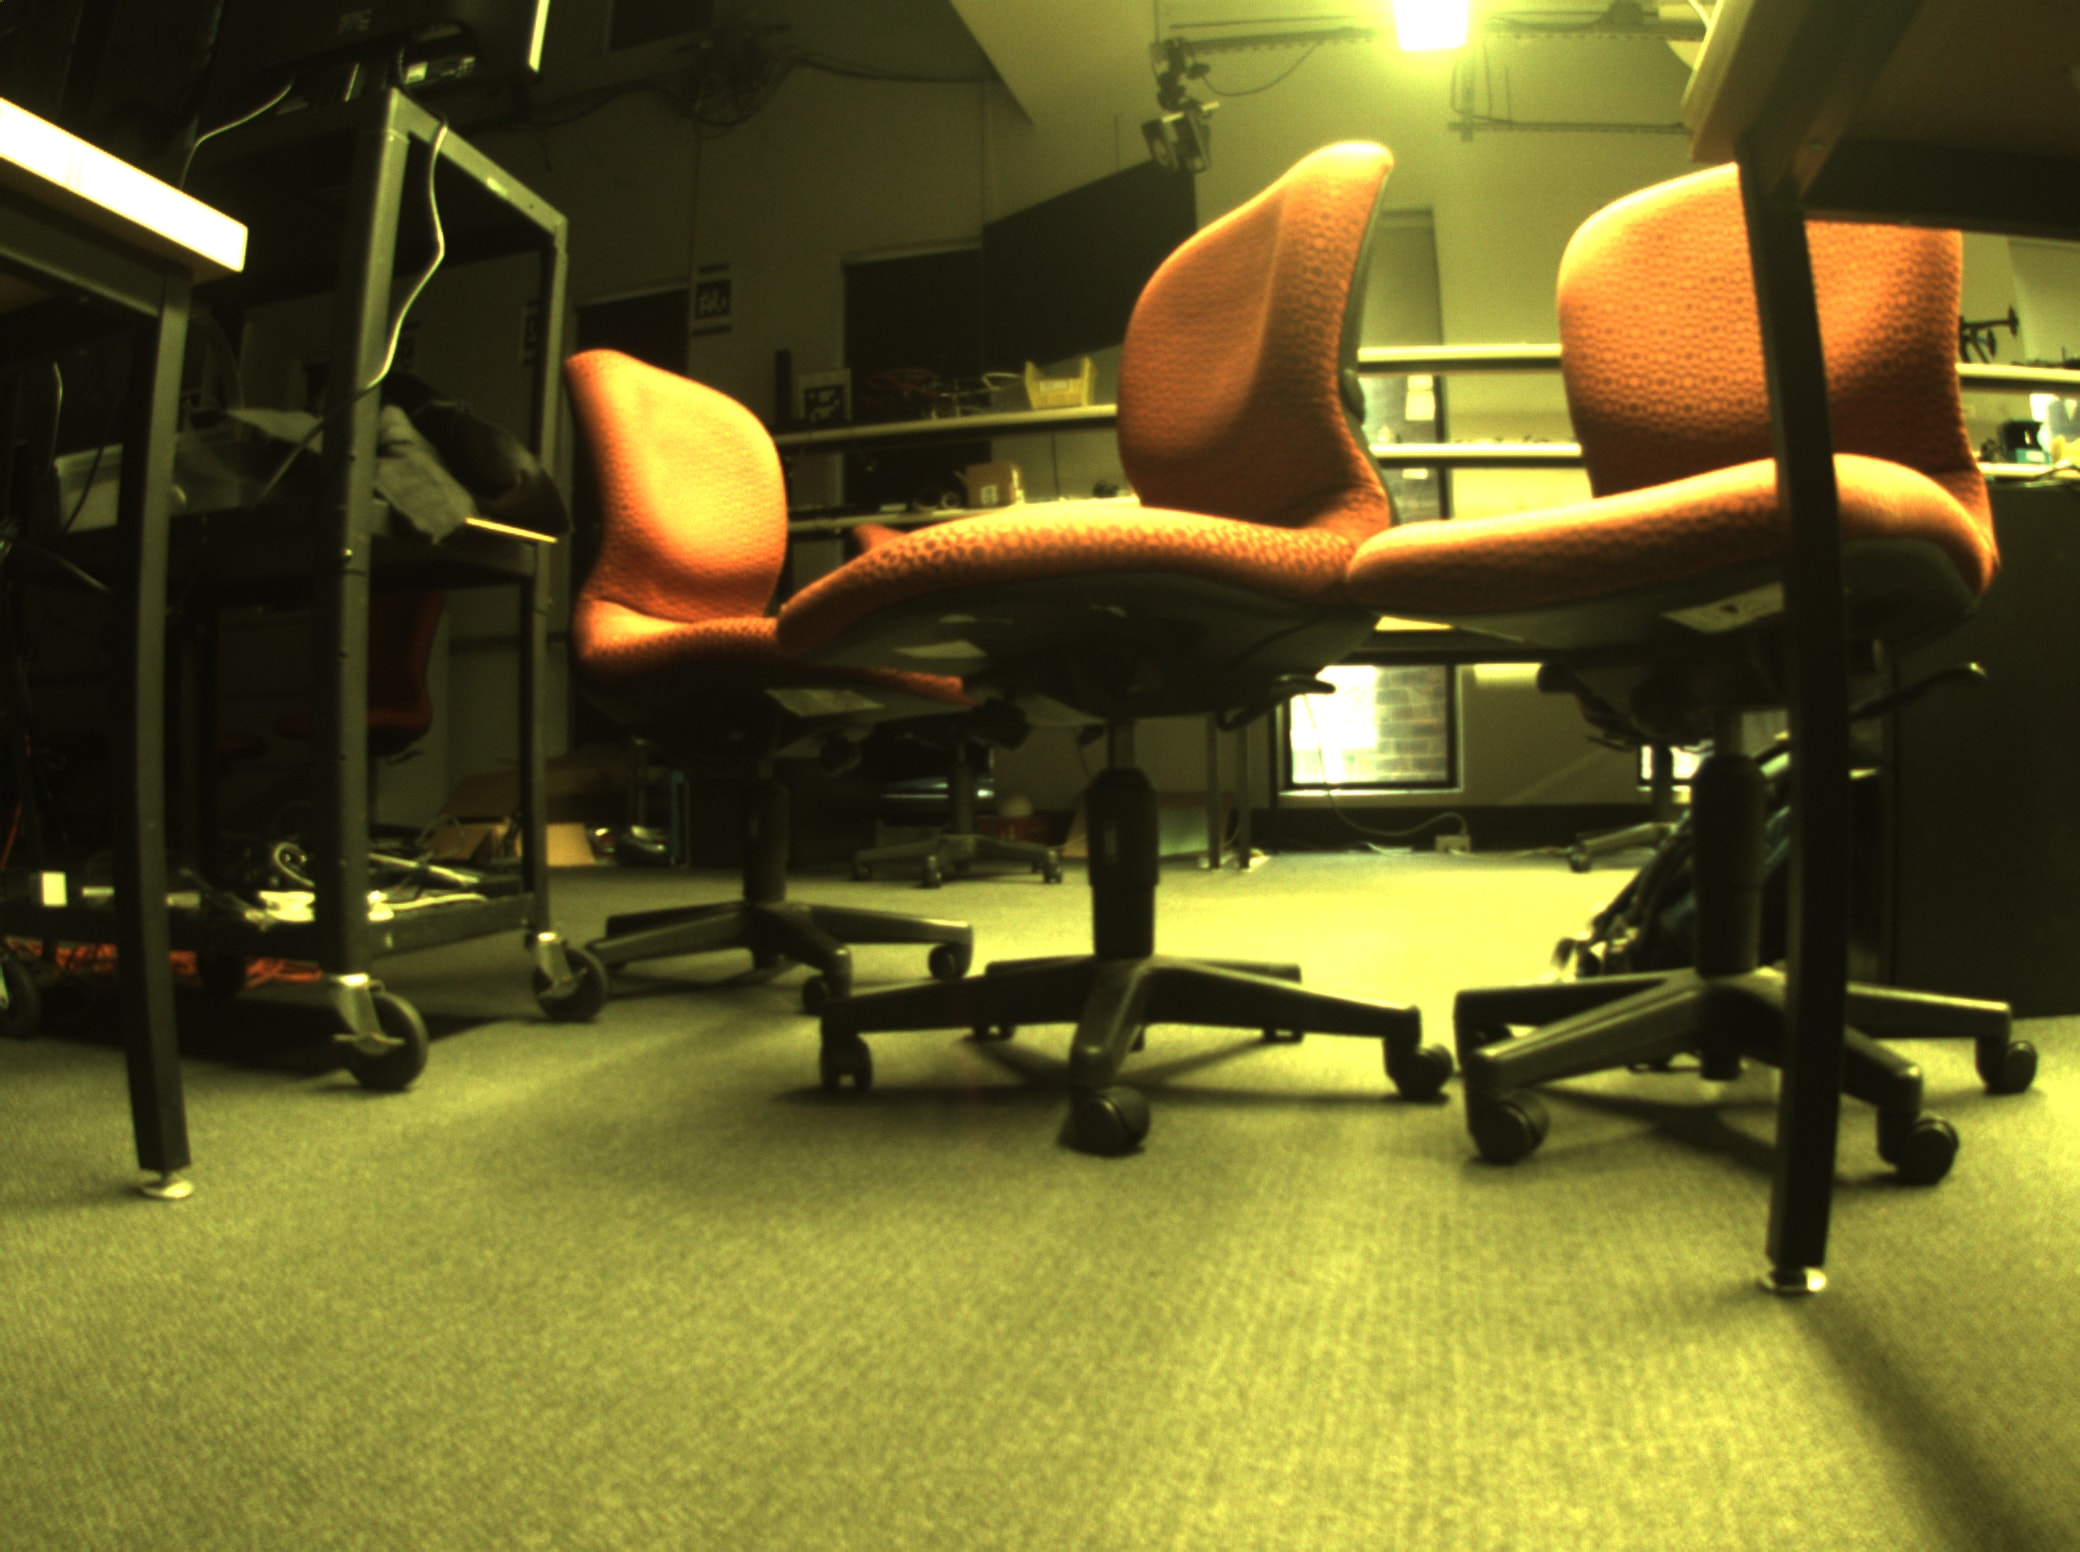chair: (769, 104, 1456, 1185), (1377, 153, 2051, 1216), (520, 320, 986, 1035)
